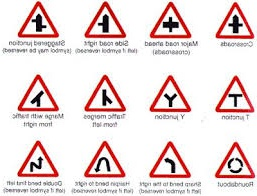Double_bend_right: (17, 141, 59, 178)
